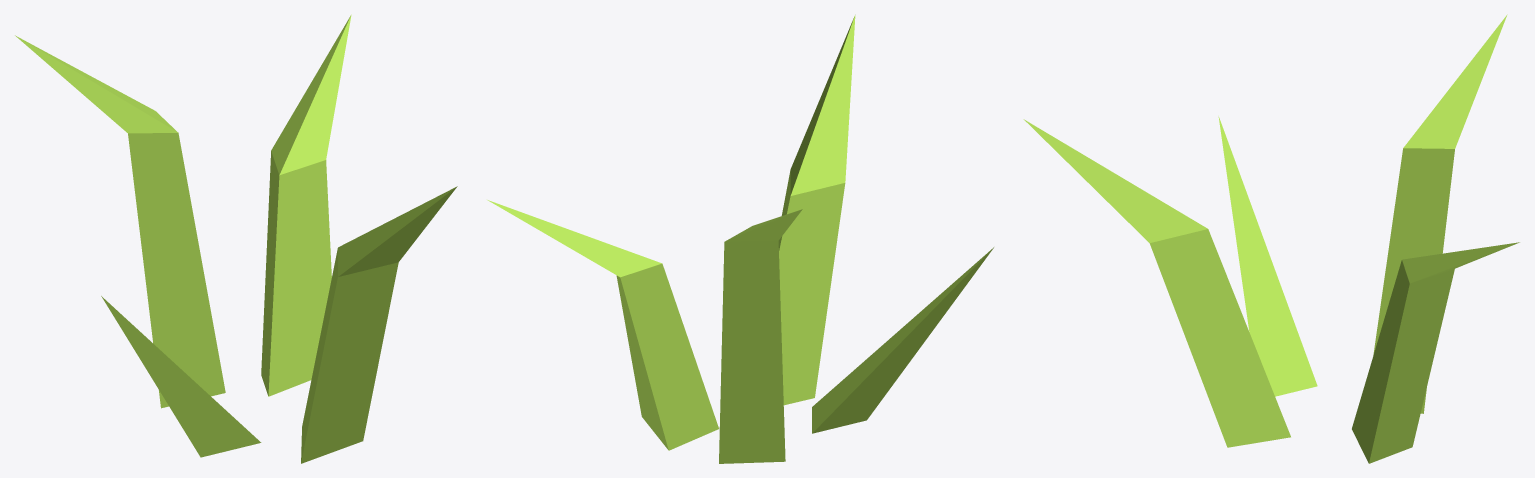
The model's file is Grass2.fbx.
3 renders of one model, left to right at view 1: azimuth 30°, elevation 25°; view 2: azimuth 150°, elevation 25°; view 3: azimuth 270°, elevation 25°, orthographic. The views are drawn at different scales.
Parts seen in each view (by area): view 1: Cylinder.001; view 2: Cylinder.001; view 3: Cylinder.001.
Boxes of the visible parts, x1,y1,x2,y2 form: Cylinder.001: (15,14,457,463); Cylinder.001: (487,15,993,463); Cylinder.001: (1023,14,1519,463).
Bounding box in the file's own units: 50.59 × 41.83 × 55.45.
